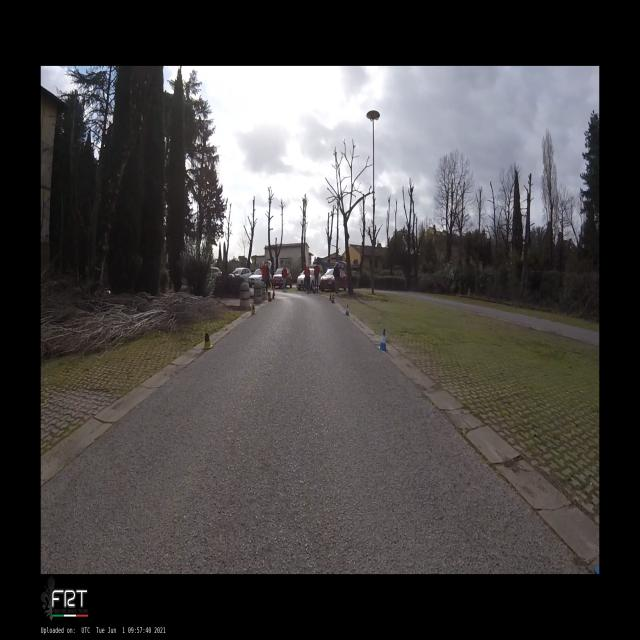blue_cone: (378, 329, 388, 351), (344, 304, 349, 316)
large_orange_cone: (268, 293, 271, 301), (332, 294, 334, 303)
unknown_cone: (272, 293, 274, 299), (330, 292, 331, 300)
yellow_cone: (202, 327, 213, 348), (251, 303, 255, 314)
